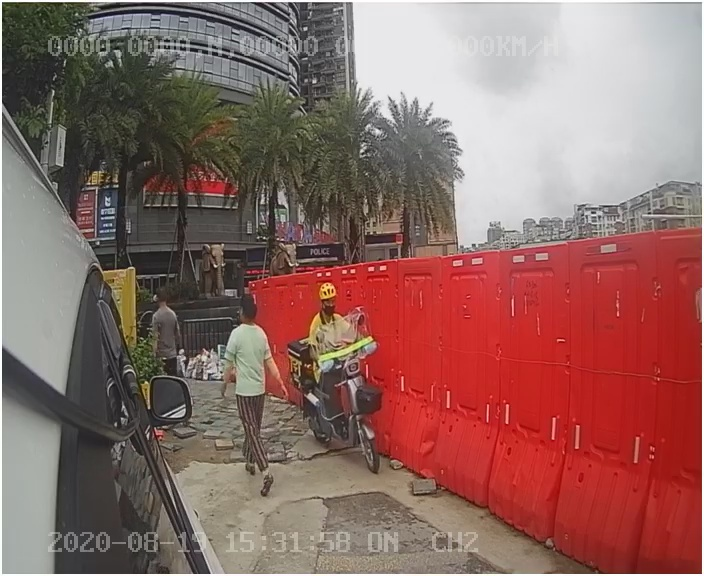person: (201, 289, 300, 501)
